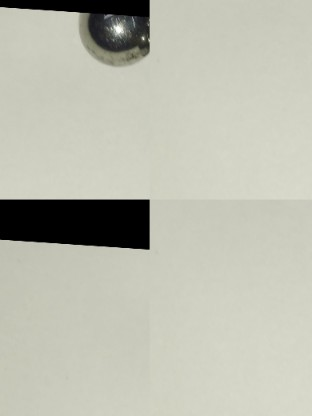ironball: (74, 13, 150, 64)
